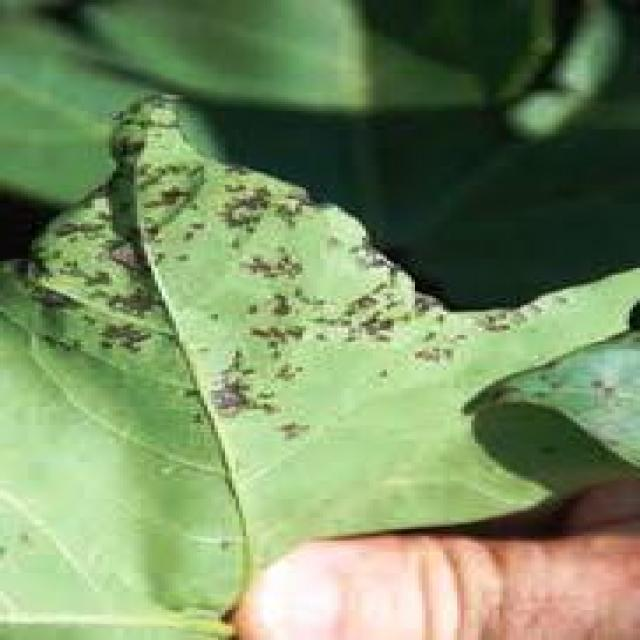Bacterial Blight: (56, 106, 363, 401)
